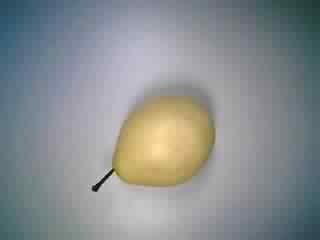pear: (67, 90, 236, 198)
